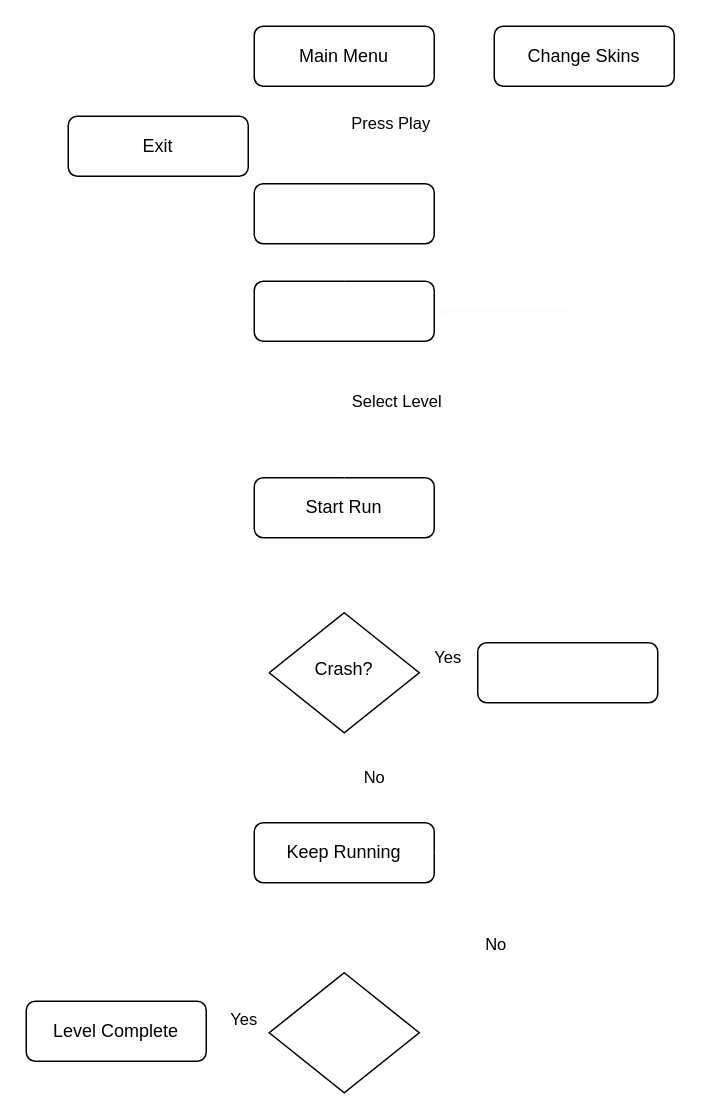
The diagram is 701 pixels wide and 1119 high, and some of its shapes have lost their labels. The shapes that lost their labels are listed below. From the top down, each one's centre as x and y in pixels, then its label:
the point at 343,213: Play cutscene
the point at 343,310: Level Menu
the point at 567,672: Game over!
the point at 343,1032: Progress Bar Full?
